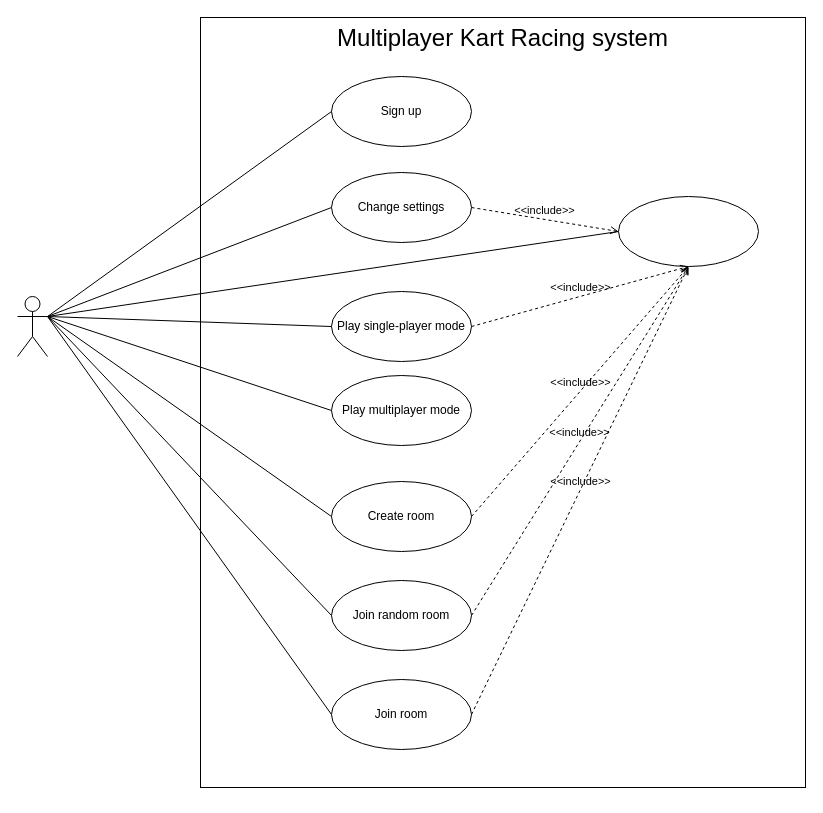
This 823x813 diagram has some shape labels left out. Each missing label, with the box of its shape:
Login: (618, 196, 758, 266)
User: (16, 296, 48, 356)
